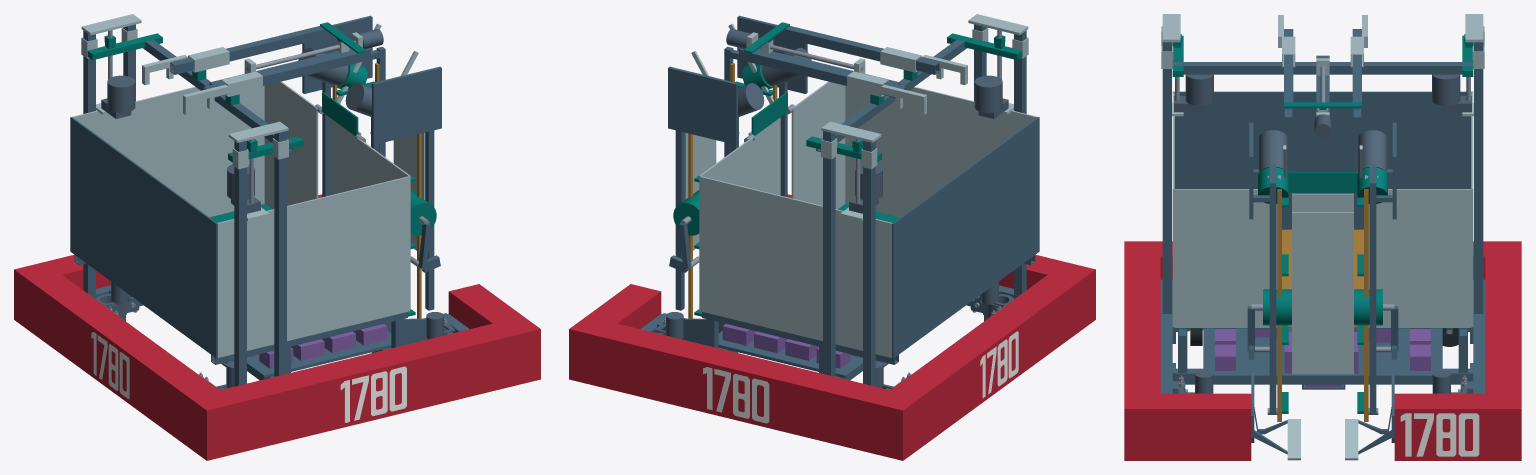
Rendered from display.glb.
3 views of the same model, side by side, from view 1: azimuth 30°, elevation 25°; view 2: azimuth 150°, elevation 25°; view 3: azimuth 270°, elevation 25° (orthographic). The views are drawn at different scales.
Visible parts, largest first — view 1: right hopper wall, right red side bumper, hopper back panel, left hopper wall, rear red bumper, left hopper front wing, right upper head cheek, right aft mast, right mast, left red side bumper, right red front bumper, rear lift custody gate (+29 smaller); view 2: left hopper wall, left red side bumper, hopper back panel, right hopper wall, rear red bumper, right hopper front wing, left upper head cheek, left aft mast, left mast, right red side bumper, left red front bumper, rear lift custody gate (+29 smaller); view 3: hopper back panel, right hopper front wing, left hopper front wing, front lift custody guide, left red side bumper, right red side bumper, right red front bumper, left red front bumper, crosshead lift bridge, left mast, right mast, right electronics deck (+36 smaller).
Boxes of the visible parts, x1,y1,x2,y2 form: right hopper wall: [217, 176, 409, 357]; right red side bumper: [189, 316, 540, 460]; hopper back panel: [70, 117, 217, 358]; left hopper wall: [72, 85, 264, 217]; rear red bumper: [31, 275, 219, 447]; left hopper front wing: [264, 81, 318, 209]; right upper head cheek: [372, 66, 441, 144]; right aft mast: [234, 141, 246, 386]; right mast: [274, 131, 286, 376]; left red side bumper: [14, 194, 322, 332]; right red front bumper: [448, 284, 522, 328]; rear lift custody gate: [329, 117, 361, 195]; left hopper wall: [700, 176, 892, 357]; left red side bumper: [569, 316, 920, 460]; hopper back panel: [892, 117, 1039, 358]; right hopper wall: [845, 85, 1037, 217]; rear red bumper: [890, 275, 1078, 447]; right hopper front wing: [791, 81, 845, 209]; left upper head cheek: [668, 66, 737, 144]; left aft mast: [863, 141, 875, 386]; left mast: [823, 131, 835, 376]; right red side bumper: [787, 194, 1095, 332]; left red front bumper: [587, 284, 661, 328]; rear lift custody gate: [748, 117, 780, 195]; hopper back panel: [1173, 91, 1472, 229]; right hopper front wing: [1174, 189, 1277, 327]; left hopper front wing: [1368, 189, 1471, 327]; front lift custody guide: [1292, 212, 1353, 368]; left red side bumper: [1485, 241, 1521, 460]; right red side bumper: [1124, 241, 1160, 460]; right red front bumper: [1160, 393, 1251, 460]; left red front bumper: [1394, 393, 1485, 460]; crosshead lift bridge: [1172, 62, 1473, 74]; left mast: [1474, 42, 1483, 313]; right mast: [1162, 42, 1171, 313]; right electronics deck: [1203, 328, 1301, 378].
Bounding box in the file's own units: 0.8322 × 0.7539 × 0.8322.
